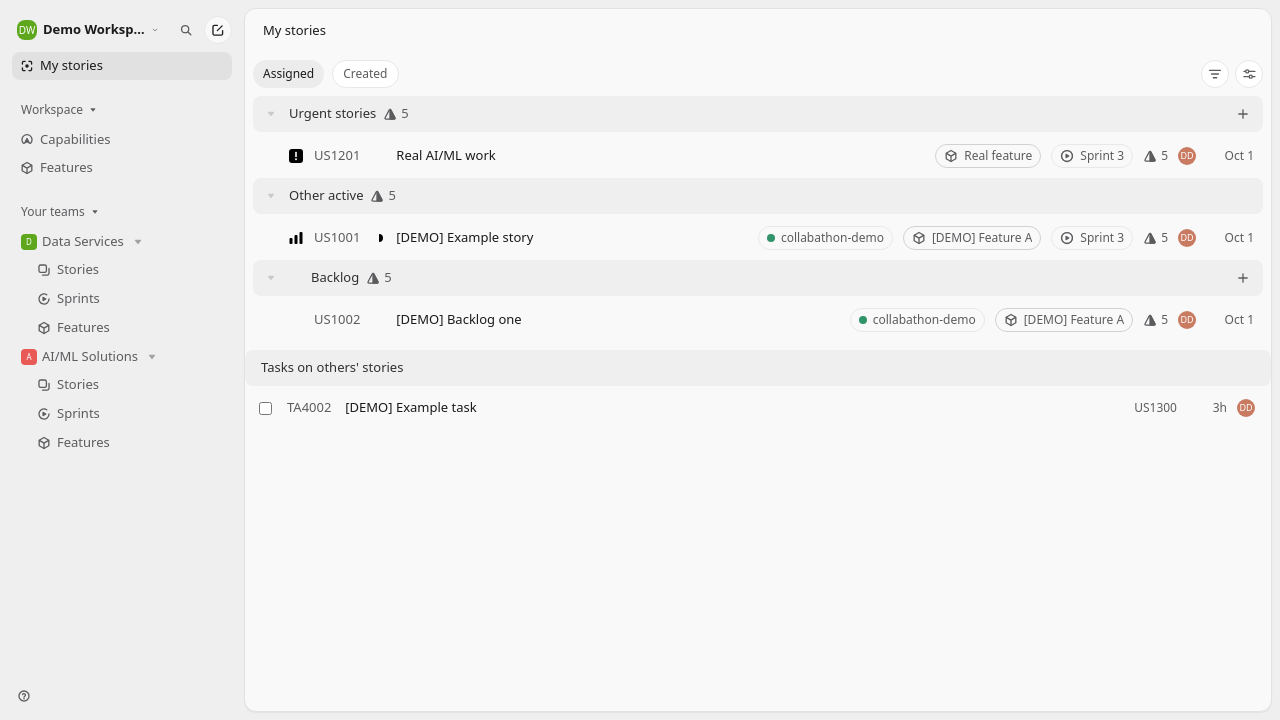
it: a team that fails to load offers Retry instead of loading forever
Check: the option "Example story" is shown, box [288,226,1254,250]
Click the 1st button "Stories": (132, 270) [31,256,232,284]
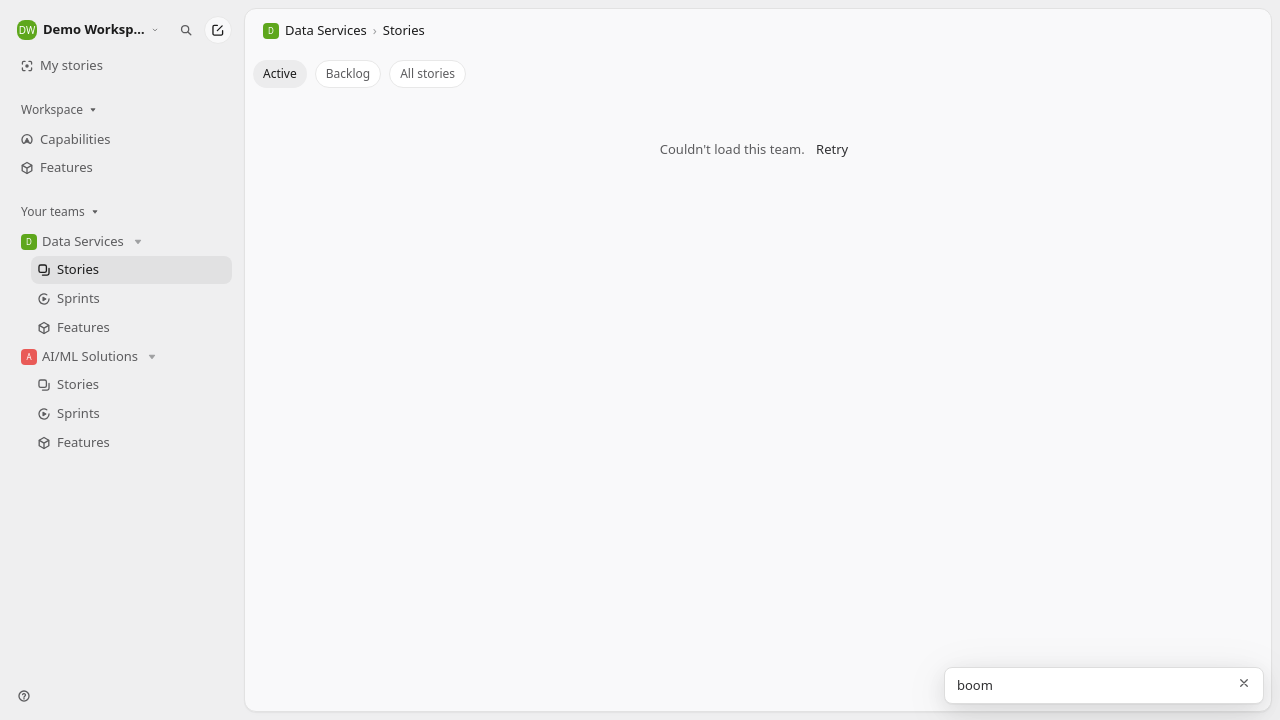
Check: the text "Couldn't load this team. Retry" is shown, box [660,136,856,164]
Click the button "Retry": (832, 150) [808,136,856,164]
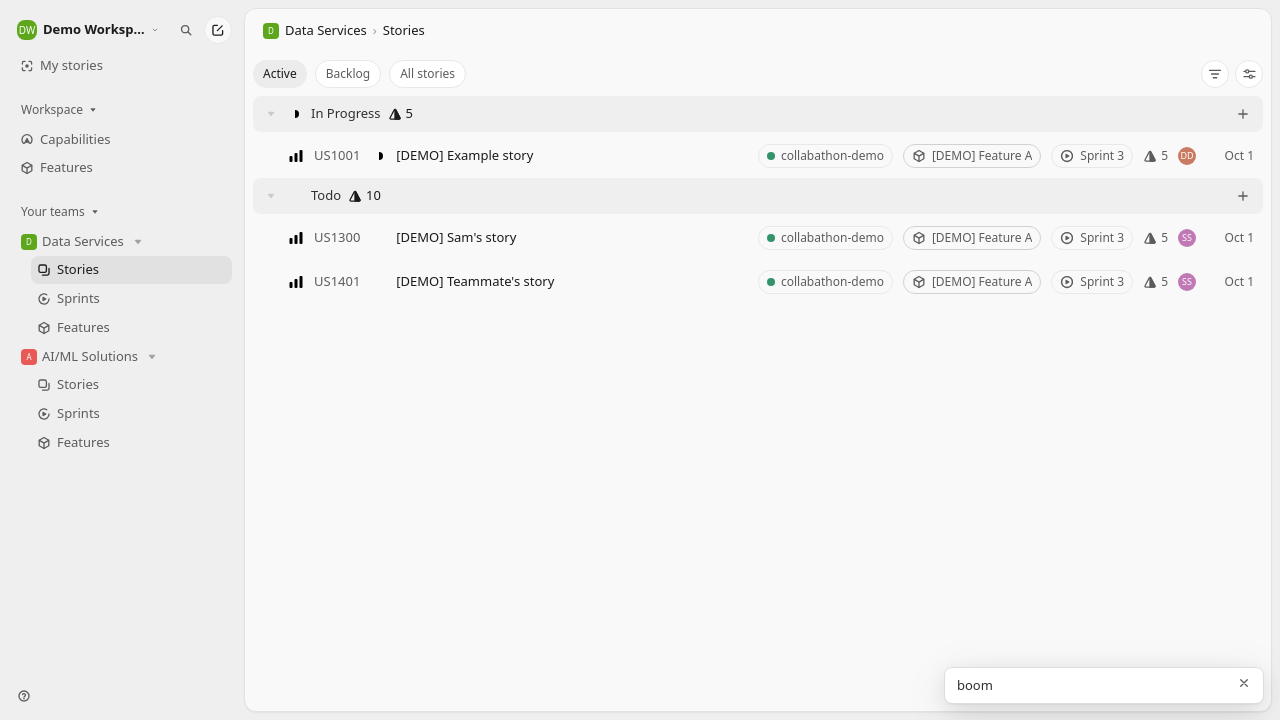
Check: the option "Teammate's story" is shown, box [288,270,1254,294]
